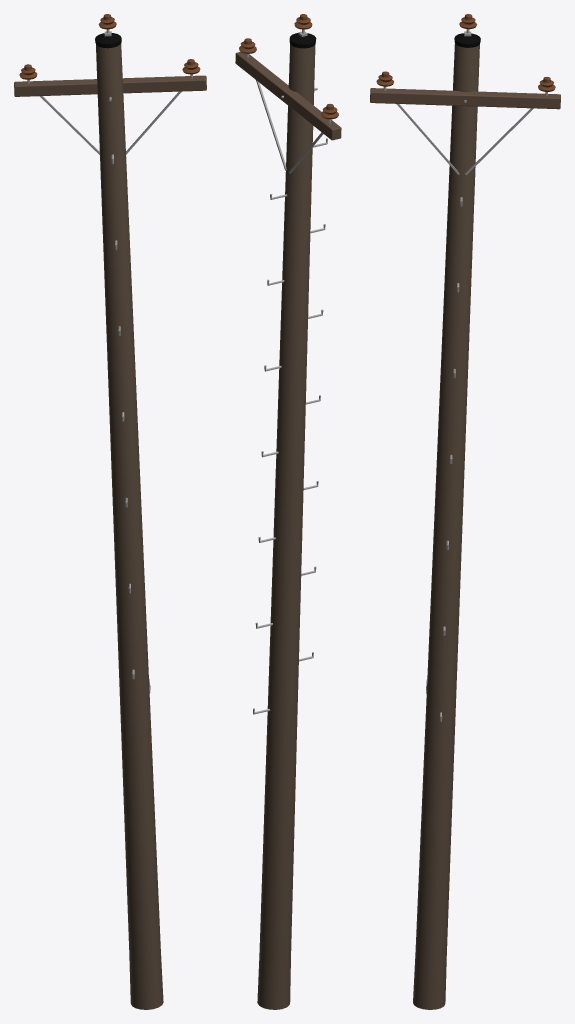
The model's file is energy.line.pole_plain.glb.
3 views of the same model, side by side, from view 1: azimuth 90°, elevation 25°; view 2: azimuth 210°, elevation 25°; view 3: azimuth 270°, elevation 25° (orthographic).
Visible parts, largest first — view 1: main__timber_544, main__timber_654, main__galv_aaa, main__glaze_742; view 2: main__timber_544, main__timber_654, main__galv_aaa, main__glaze_742, main__rubber; view 3: main__timber_544, main__timber_654, main__galv_aaa, main__glaze_742.
Part boxes in pixels (x1,y1,x2,y2): main__timber_544: [96, 43, 163, 1009]; main__timber_654: [14, 75, 206, 96]; main__galv_aaa: [40, 31, 181, 679]; main__glaze_742: [19, 14, 200, 79]; main__timber_544: [257, 44, 315, 1009]; main__timber_654: [235, 52, 341, 140]; main__galv_aaa: [253, 31, 327, 714]; main__glaze_742: [239, 14, 338, 119]; main__rubber: [289, 33, 316, 48]; main__timber_544: [413, 43, 479, 1009]; main__timber_654: [370, 88, 560, 109]; main__galv_aaa: [396, 31, 533, 721]; main__glaze_742: [376, 14, 555, 91].
Size of the model in its own units: 0.6462 by 9.69 by 1.7.
